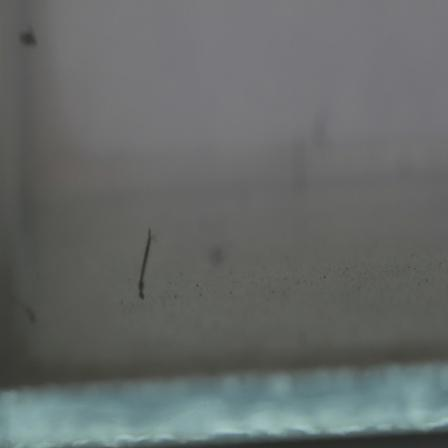Jentik-Nyamuk: (133, 223, 164, 302)
